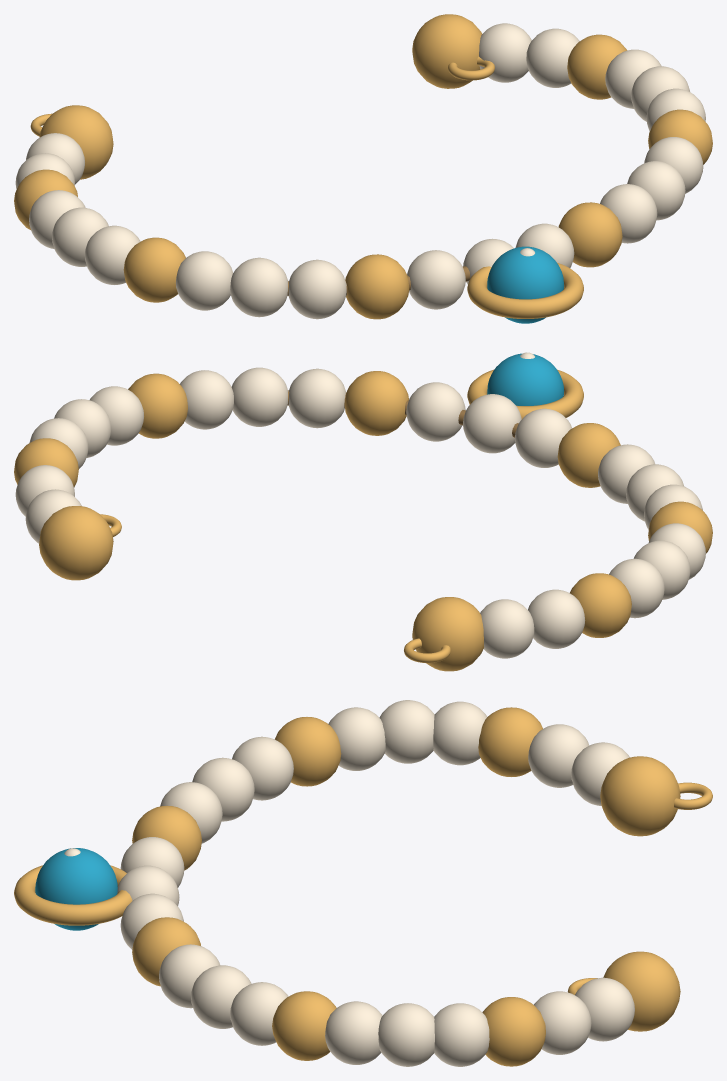
The model's file is SM_Prop03_CollarPerlas_Santiago_Garcia.fbx.
3 renders of one model, top to bottom at view 1: azimuth 30°, elevation 25°; view 2: azimuth 150°, elevation 25°; view 3: azimuth 270°, elevation 25°, orthographic. The views are drawn at different scales.
Parts seen in each view (by area): view 1: Terminal dorado.001, Colgante de gema, Separador dorado.002, Separador dorado.001, Bisel del colgante, Separador dorado.003, Terminal dorado, Perla 11, Perla 10, Perla 13, Perla 09, Separador dorado.005 (+18 smaller); view 2: Terminal dorado.001, Terminal dorado, Separador dorado.003, Colgante de gema, Separador dorado, Perla 17, Separador dorado.004, Perla 15, Perla 18, Separador dorado.002, Perla 14, Perla 03 (+18 smaller); view 3: Terminal dorado, Terminal dorado.001, Colgante de gema, Separador dorado.005, Separador dorado.004, Separador dorado, Separador dorado.001, Bisel del colgante, Perla 22, Perla 23, Perla 21, Perla 06 (+18 smaller).
Boxes of the visible parts, <box> form: Terminal dorado.001: <box>412,14,481,88</box>; Colgante de gema: <box>487,246,564,323</box>; Separador dorado.002: <box>345,254,409,319</box>; Separador dorado.001: <box>123,237,185,302</box>; Bisel del colgante: <box>467,263,583,318</box>; Separador dorado.003: <box>558,202,622,267</box>; Terminal dorado: <box>39,105,113,179</box>; Perla 11: <box>288,259,346,319</box>; Perla 10: <box>230,257,288,317</box>; Perla 13: <box>407,250,465,309</box>; Perla 09: <box>175,251,232,310</box>; Separador dorado.005: <box>567,34,627,99</box>; Terminal dorado.001: <box>39,506,113,580</box>; Terminal dorado: <box>412,597,483,671</box>; Separador dorado.003: <box>344,371,408,435</box>; Colgante de gema: <box>487,353,564,405</box>; Separador dorado: <box>570,573,631,637</box>; Perla 17: <box>288,368,346,428</box>; Separador dorado.004: <box>128,373,187,438</box>; Perla 15: <box>406,382,465,441</box>; Perla 18: <box>231,367,288,426</box>; Separador dorado.002: <box>557,423,620,487</box>; Perla 14: <box>463,394,521,453</box>; Perla 03: <box>528,589,585,648</box>; Terminal dorado: <box>600,756,680,836</box>; Terminal dorado.001: <box>603,951,680,1031</box>; Colgante de gema: <box>35,848,117,930</box>; Separador dorado.005: <box>482,997,545,1066</box>; Separador dorado.004: <box>272,991,336,1060</box>; Separador dorado: <box>478,707,542,776</box>; Separador dorado.001: <box>275,717,341,786</box>; Bisel del colgante: <box>14,865,132,925</box>; Perla 22: <box>378,1003,434,1066</box>; Perla 23: <box>434,1003,489,1066</box>; Perla 21: <box>325,1001,382,1064</box>; Perla 06: <box>379,700,434,763</box>.
Bounding box in the file's own units: 3.3 × 0.3786 × 2.96.
